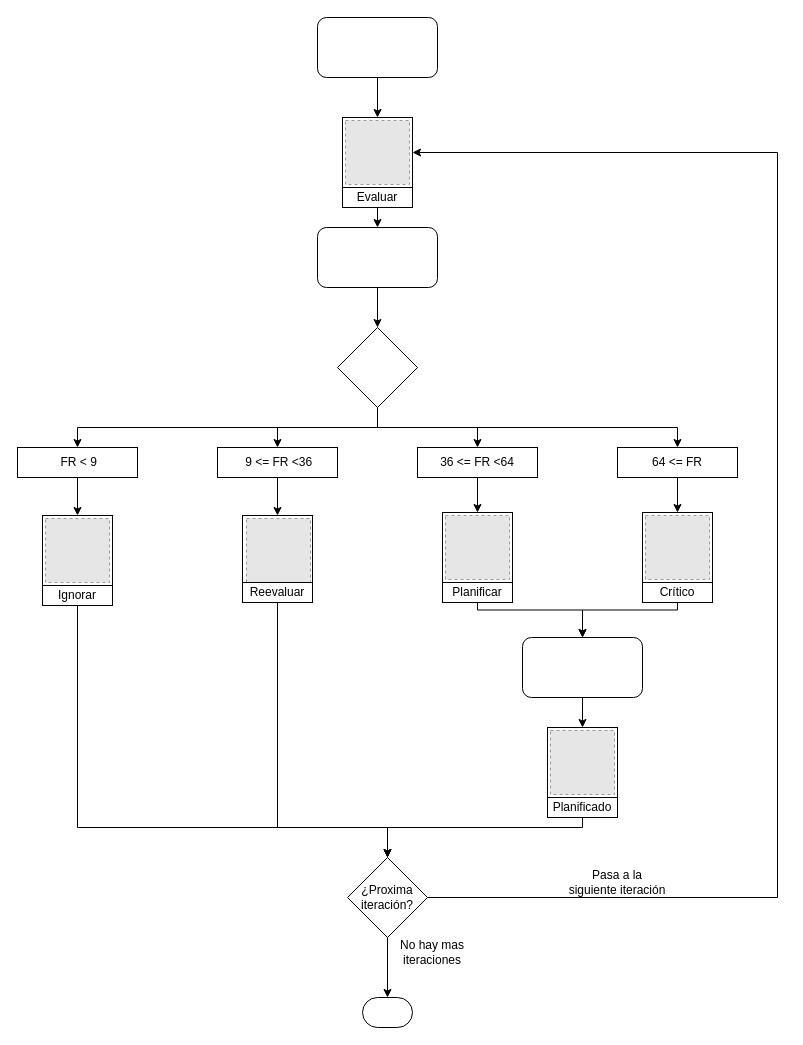
Some shapes in this 803 by 1045 pixel diagram are drawn without their labels. Grey dashed boxes stand in for pictures. The shapes that lost their labels are listed below. From the top down, each one's box as (x1, y1, x2, y2) in pixels, then its label:
(316, 16, 438, 78): Agregar riesgo a la lista
(316, 226, 438, 288): Evaluar riesgo
(336, 326, 418, 408): ¿Factor de riesgo?
(522, 636, 642, 698): Generar planes de acción
(362, 996, 412, 1028): Fin
